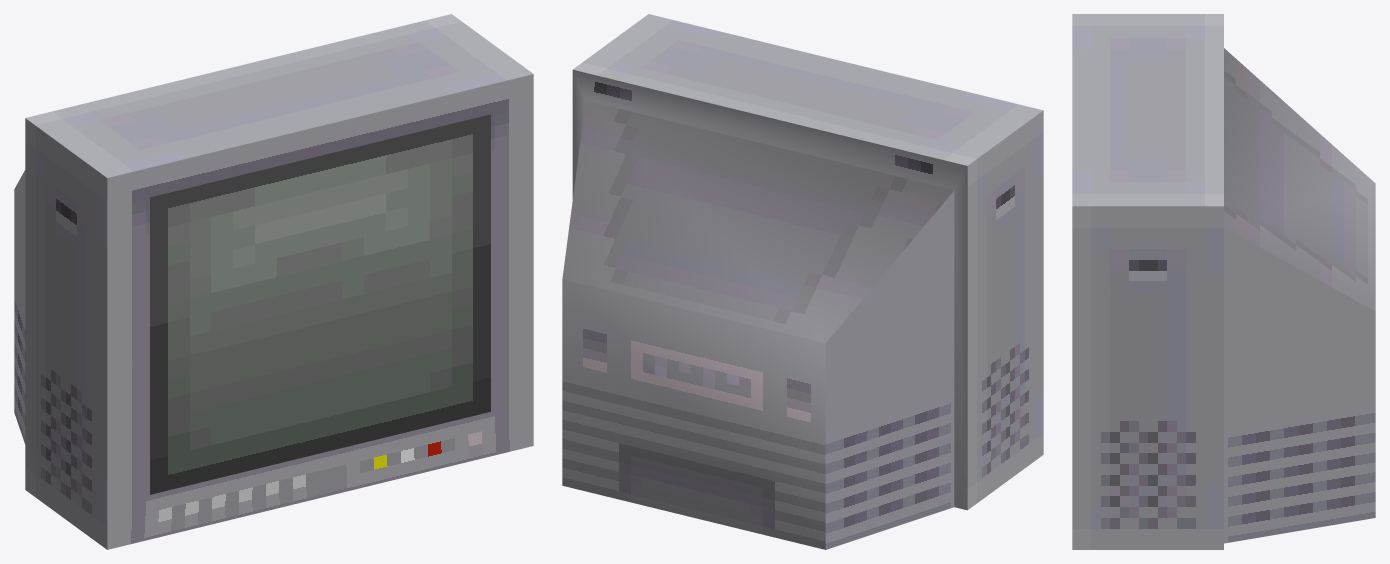
The model's file is Large TV Set.obj.
3 renders of one model, left to right at view 1: azimuth 30°, elevation 25°; view 2: azimuth 150°, elevation 25°; view 3: azimuth 270°, elevation 25°, orthographic. The views are drawn at different scales.
Visible parts, largest first — view 1: polygon0.199, polygon2.168, polygon4.110, polygon3.130; view 2: polygon1.196, polygon2.168, polygon4.110, polygon3.130; view 3: polygon2.168, polygon3.130, polygon1.196.
Part boxes in pixels (x1,y1,x2,y2): polygon0.199: (150,114,490,494); polygon2.168: (25,14,532,549); polygon4.110: (107,74,533,549); polygon3.130: (14,170,25,443); polygon1.196: (562,70,967,343); polygon2.168: (573,14,1043,509); polygon4.110: (562,279,825,549); polygon3.130: (572,70,967,549); polygon2.168: (1072,14,1223,549); polygon3.130: (1224,227,1375,543); polygon1.196: (1224,48,1375,311).
Bounding box in the file's own units: 3 × 2.5 × 2.
5 materials, 5 textured.
